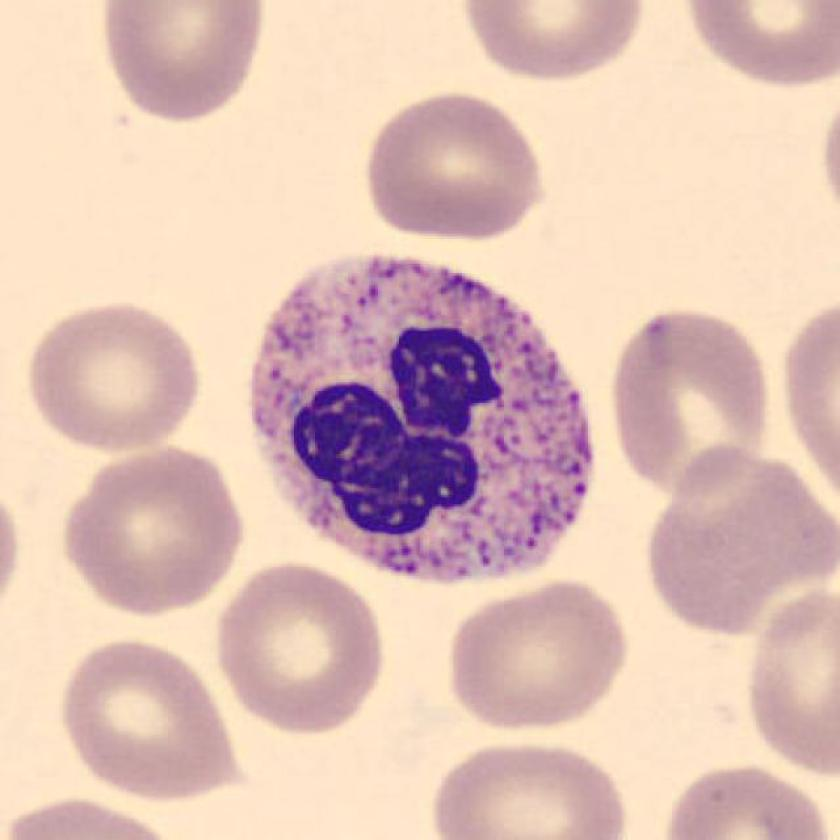neutrophil: (252, 257, 593, 585)
